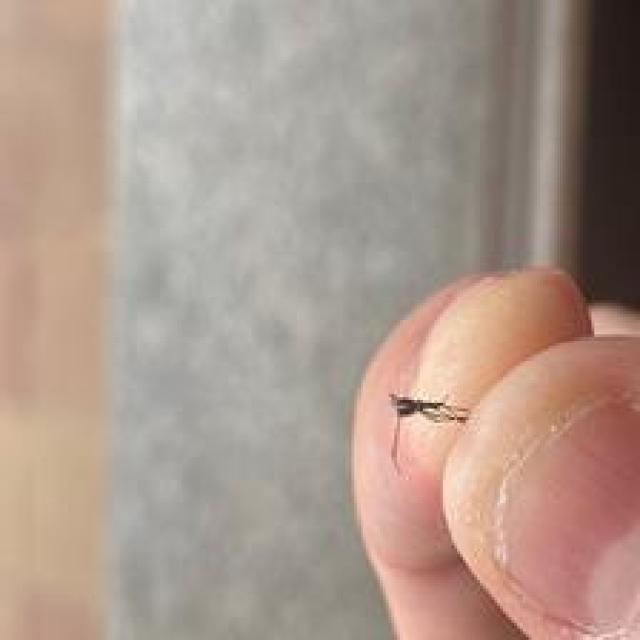Aedes albopictus: (386, 392, 471, 474)
